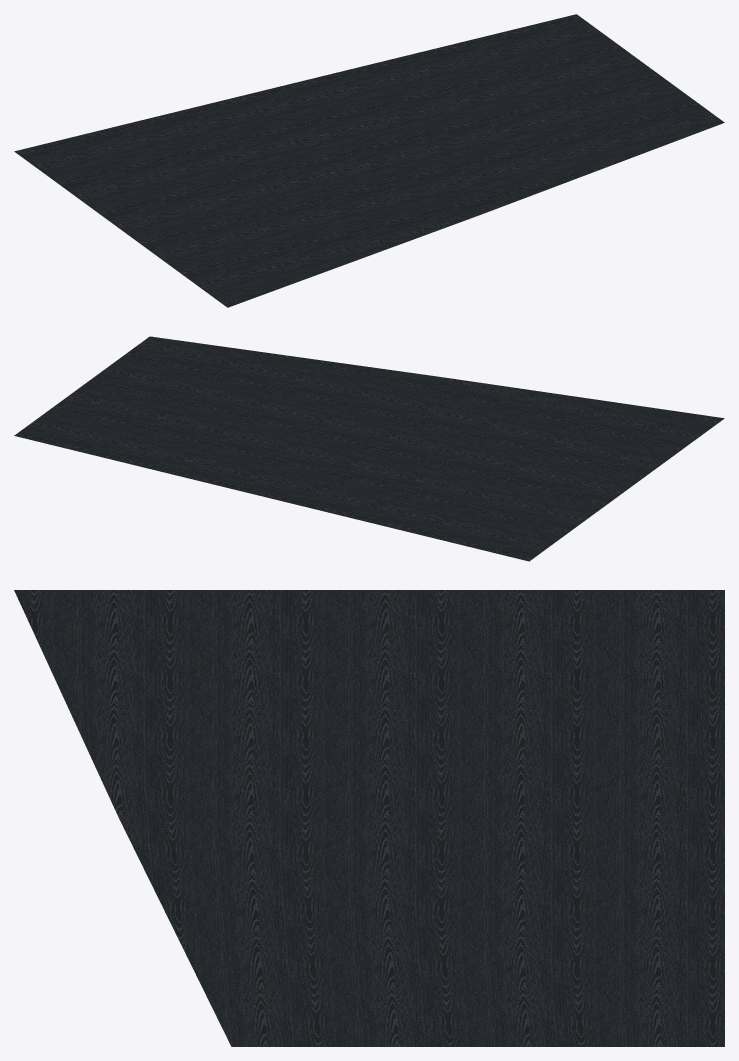
Rendered from GYM_Ceiling_7.fbx.
3 views of the same model, one above another, from view 1: azimuth 30°, elevation 25°; view 2: azimuth 150°, elevation 25°; view 3: azimuth 270°, elevation 25° (orthographic). The views are drawn at different scales.
Parts seen in each view (by area): view 1: GYM_Ceiling_Panel_3; view 2: GYM_Ceiling_Panel_3; view 3: GYM_Ceiling_Panel_3.
Boxes of the visible parts, box(x1,y1,x2,y2) form: GYM_Ceiling_Panel_3: box(14, 14, 724, 307); GYM_Ceiling_Panel_3: box(14, 336, 724, 561); GYM_Ceiling_Panel_3: box(14, 590, 724, 1046).
Bounding box in the file's own units: 4 × 8.88e-16 × 2.63.
1 material, 1 textured.
